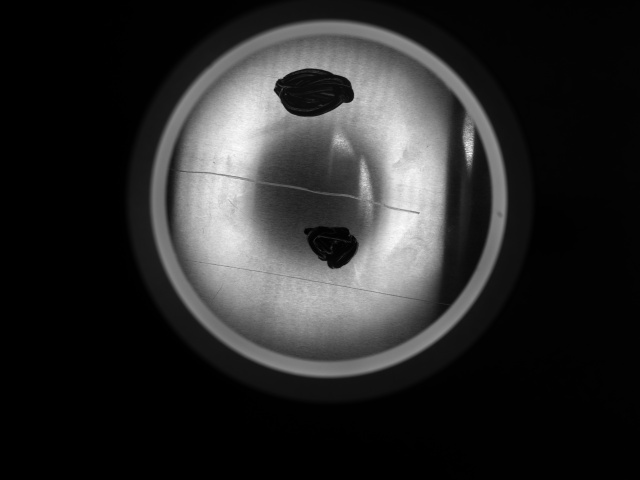ca_shang: (182, 252, 445, 309), (173, 163, 423, 216)
zang_wu: (274, 68, 356, 119), (300, 220, 360, 273)
